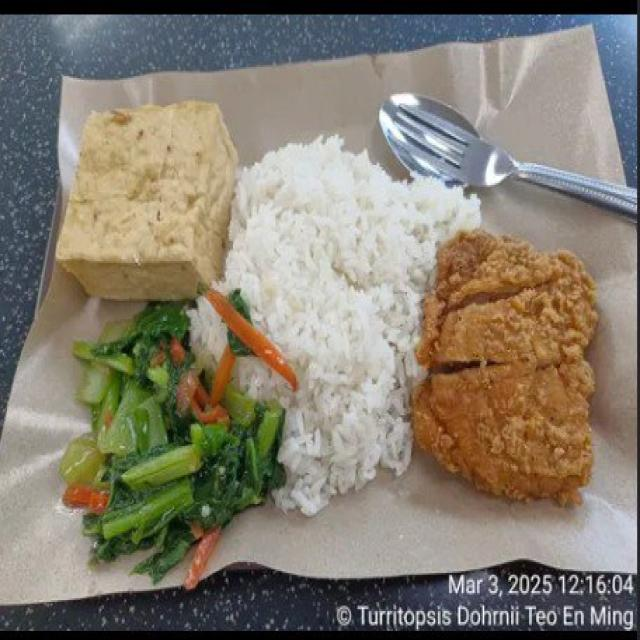Chicken: (411, 230, 596, 504)
Green veg: (60, 303, 284, 580)
Non green veg: (205, 288, 296, 390), (188, 343, 234, 419), (185, 526, 220, 587)
Rice: (216, 134, 480, 515), (191, 301, 225, 366)
Tofu: (56, 102, 237, 299)
